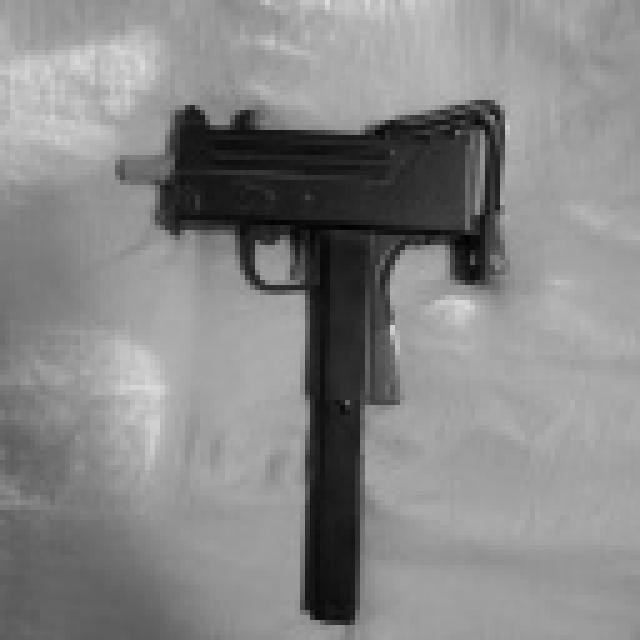Rifle: (70, 45, 575, 640)
